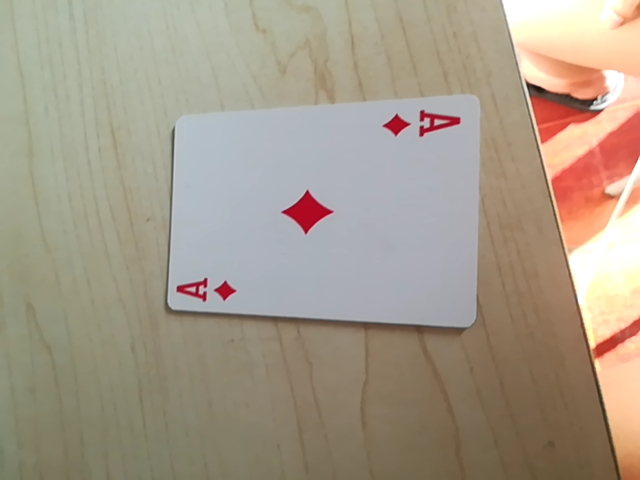fk a: (380, 106, 461, 143), (172, 272, 243, 306)
